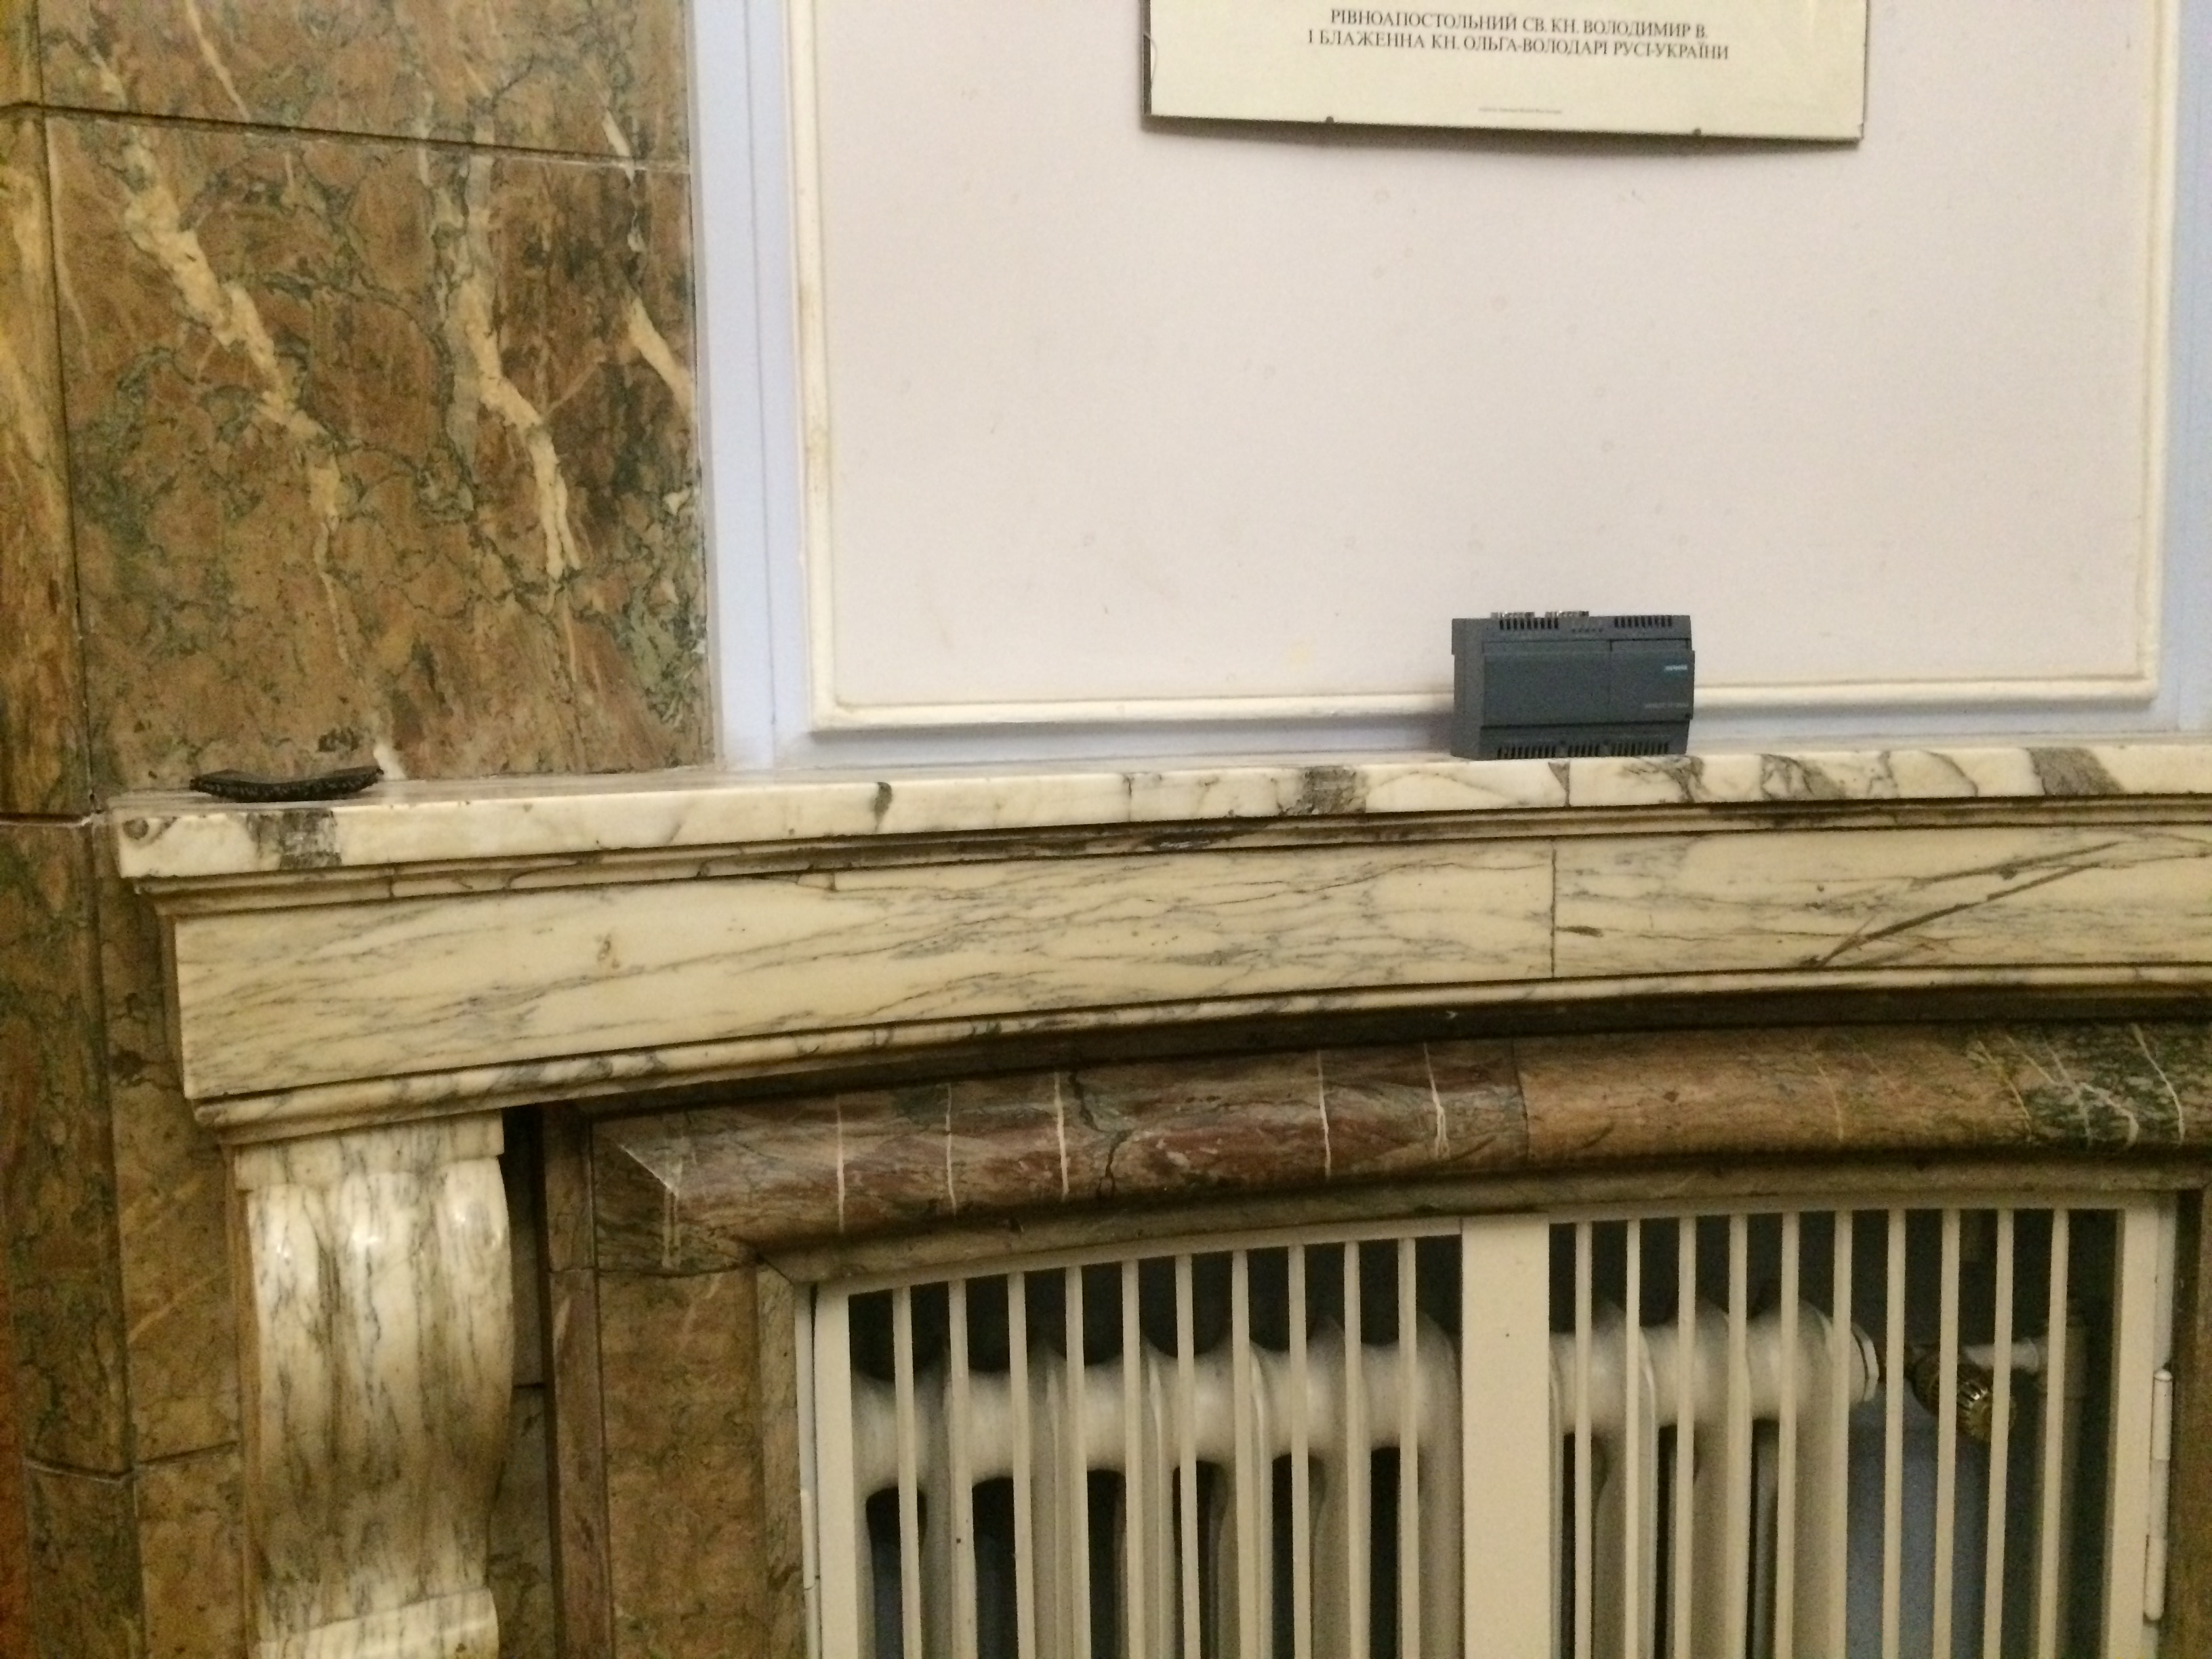iot2000: (1447, 605, 1698, 765)
